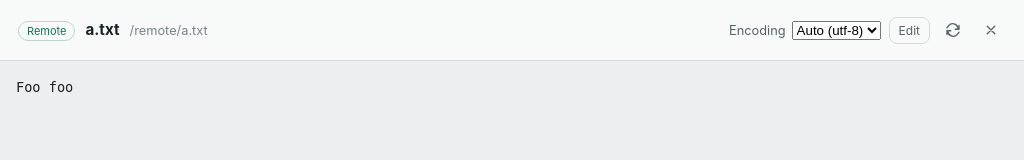
PreviewWindow › case toggle で一致件数が変わる / no match 表示
Expected: the text named "File contents" is shown, x1=16 y1=79 x2=73 y2=95
Press f
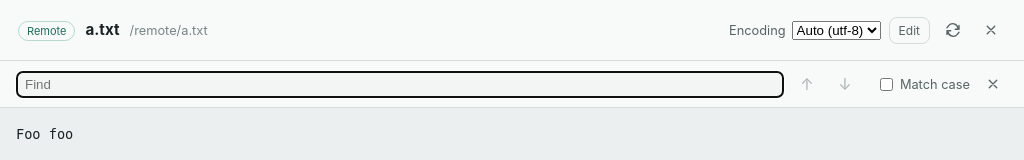
Type "foo" into the search field labelled "Find" at [400, 84], box x1=16 y1=70 x2=784 y2=98
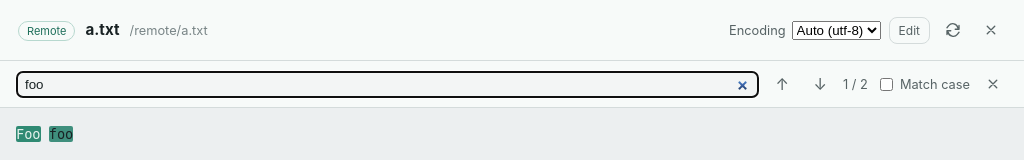
Now the text "1 / 2" is shown, box x1=843 y1=76 x2=868 y2=92
Click the checkbox labelled "Match case" at [886, 84], box x1=880 y1=78 x2=893 y2=90
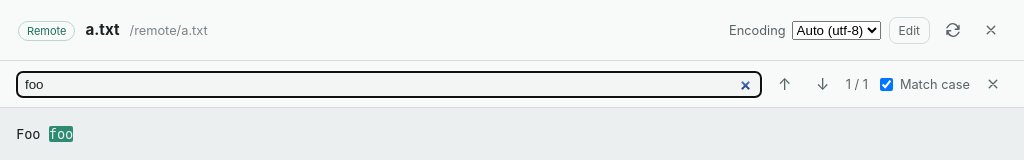
Now the text "1 / 1" is shown, box x1=846 y1=76 x2=868 y2=92
Replace the text in the search field named "Find" with "zzz" at [389, 84], box x1=16 y1=70 x2=762 y2=98
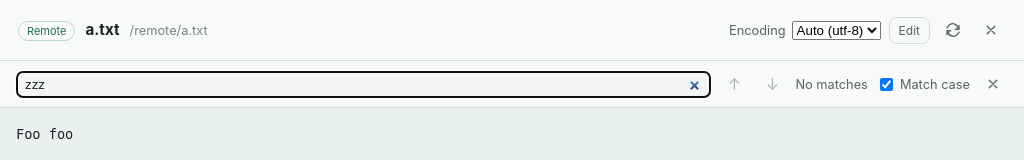
Expected: the text named "File contents" reads "Foo foo", x1=16 y1=126 x2=73 y2=142
Now the text "No matches" is shown, box x1=795 y1=76 x2=868 y2=92
